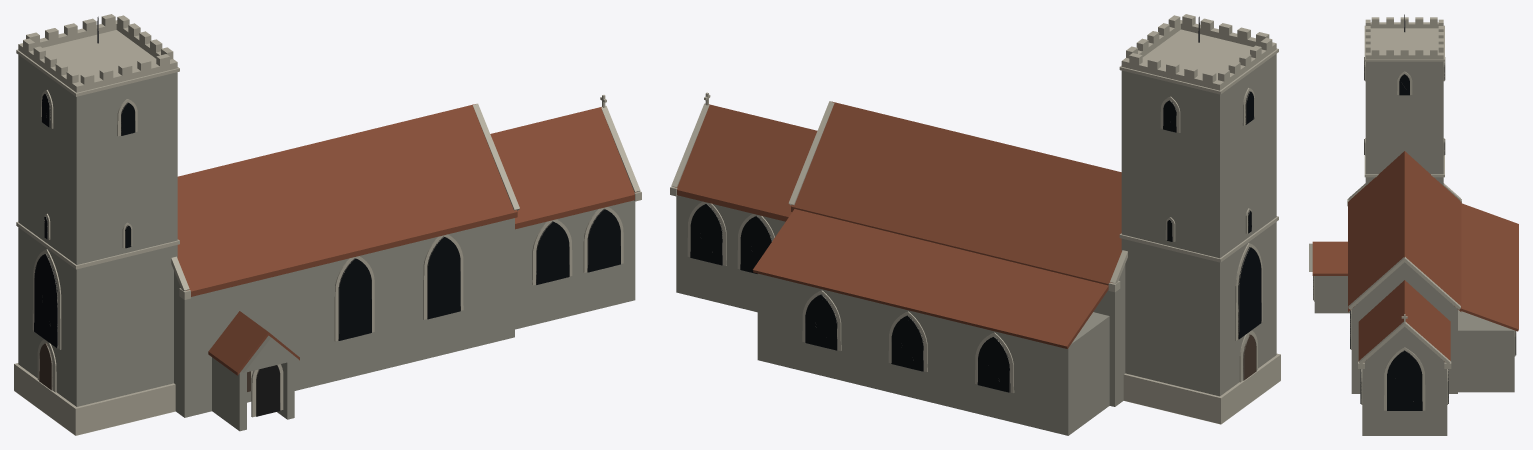
The model's file is context.church.se_perp.glb.
3 renders of one model, left to right at view 1: azimuth 30°, elevation 25°; view 2: azimuth 150°, elevation 25°; view 3: azimuth 270°, elevation 25°, orthographic. The views are drawn at different scales.
Visible parts, largest first — view 1: main__stone_998, main__clad_843, main__stone_ba9, main__glass_dark, main__timber_111, main__stone_887; view 2: main__stone_998, main__clad_843, main__stone_ba9, main__glass_dark, main__stone_887; view 3: main__clad_843, main__stone_998, main__stone_ba9, main__glass_dark, main__stone_887.
Boxes of the visible parts, x1,y1,x2,y2 form: main__stone_998: [18, 55, 635, 431]; main__clad_843: [177, 104, 636, 375]; main__stone_ba9: [14, 14, 641, 435]; main__glass_dark: [34, 93, 620, 348]; main__timber_111: [256, 365, 280, 416]; main__stone_887: [33, 93, 620, 416]; main__stone_998: [676, 54, 1276, 435]; main__clad_843: [675, 101, 1121, 348]; main__stone_ba9: [670, 14, 1280, 424]; main__glass_dark: [690, 91, 1261, 392]; main__stone_887: [690, 91, 1261, 392]; main__clad_843: [1312, 151, 1518, 361]; main__stone_998: [1309, 61, 1514, 435]; main__stone_ba9: [1314, 17, 1515, 410]; main__glass_dark: [1350, 57, 1515, 410]; main__stone_887: [1313, 57, 1516, 403].
Bounding box in the file's own units: 30.62 × 20.01 × 14.81.
